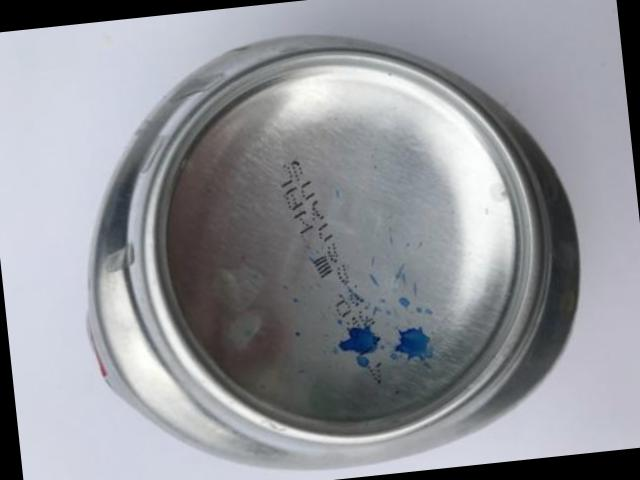metal: (88, 39, 577, 471)
